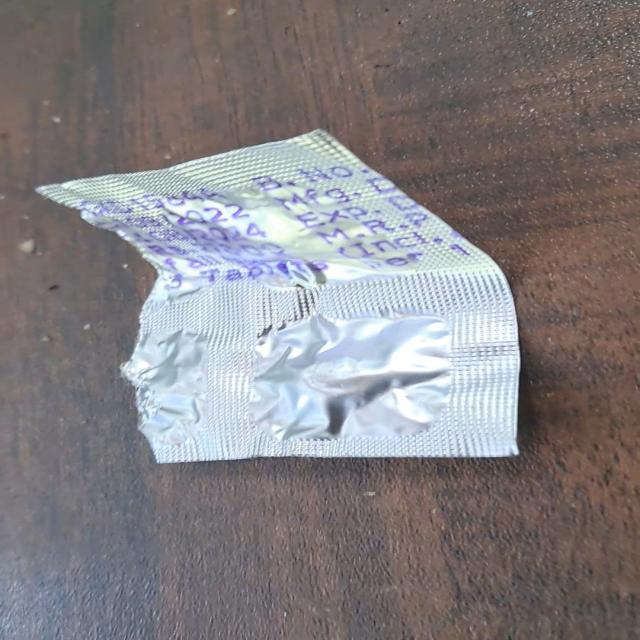Anorganik: (15, 114, 557, 474)
